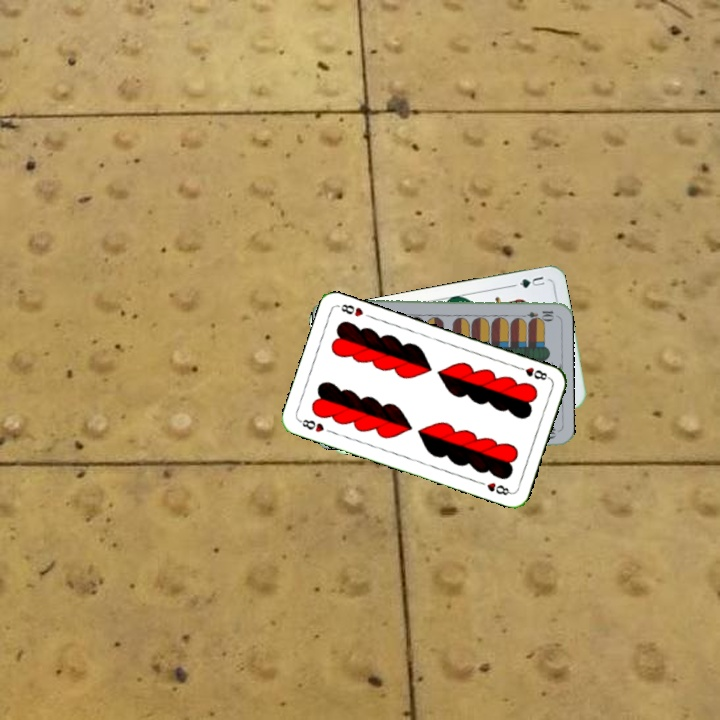E10: (516, 307, 556, 321)
GU: (509, 272, 547, 291)
H8: (513, 362, 552, 383), (295, 415, 327, 435)
